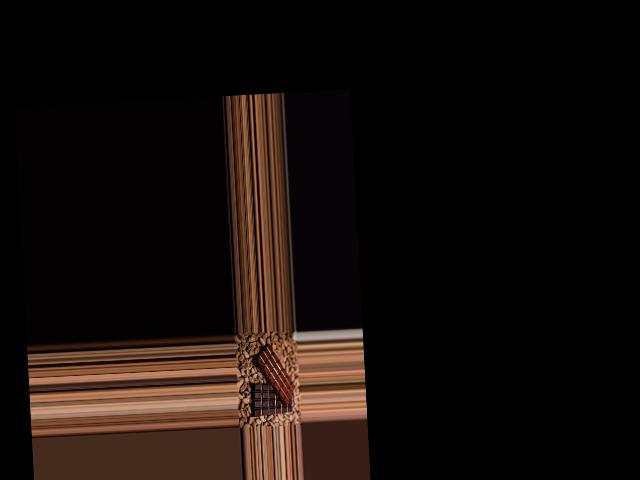chocolate: (247, 381, 295, 421)
